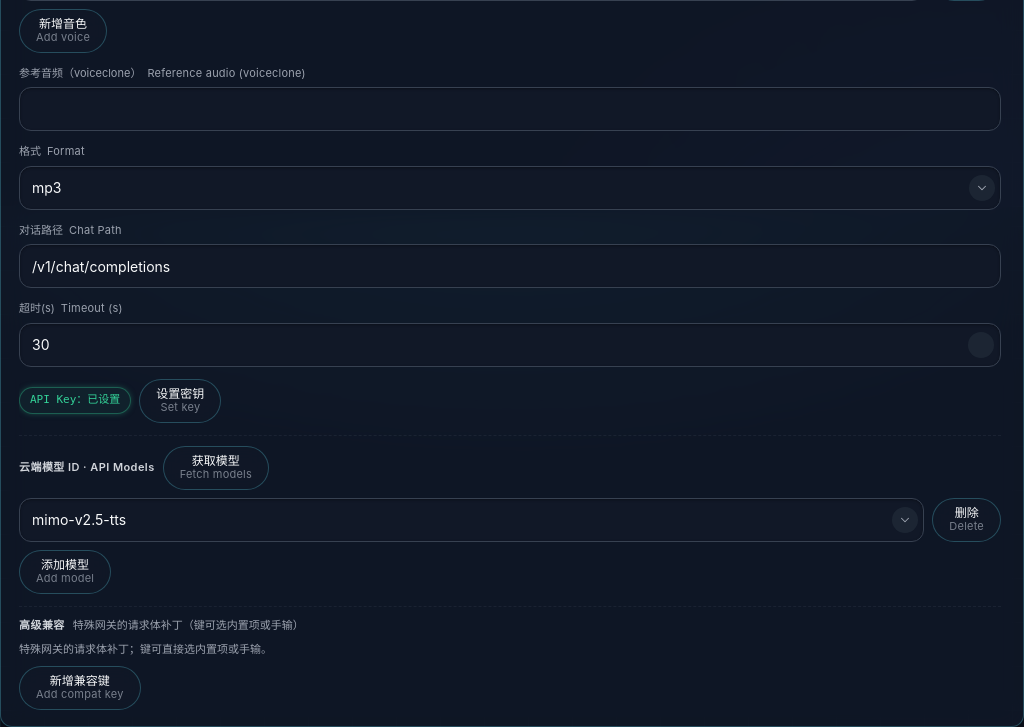
ServiceCard 模型管理 › 获取成功后打开选择弹窗
The image size is (1024, 727).
(page scrolled)
Click the button "获取模型 Fetch models". click: (216, 468)
box: [163,446,269,490]
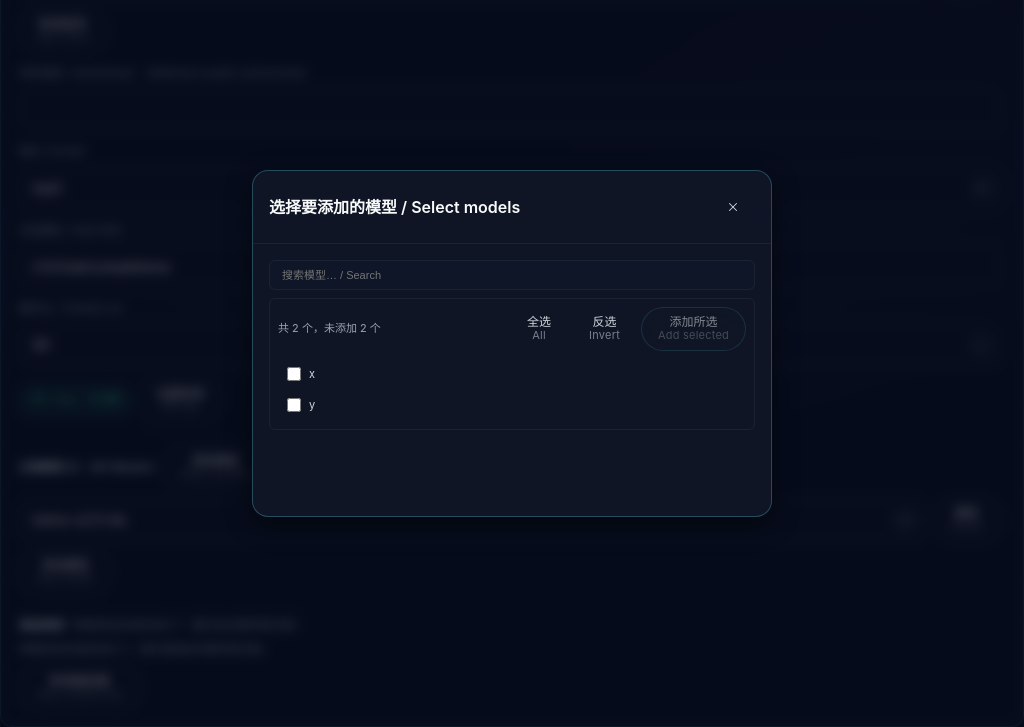
Expected: the text "选择要添加的模型" is shown, [269,196,520,216]
Expected: the number of labels with class "fm-row" is 2, [287,366,315,381]; [287,398,315,412]
